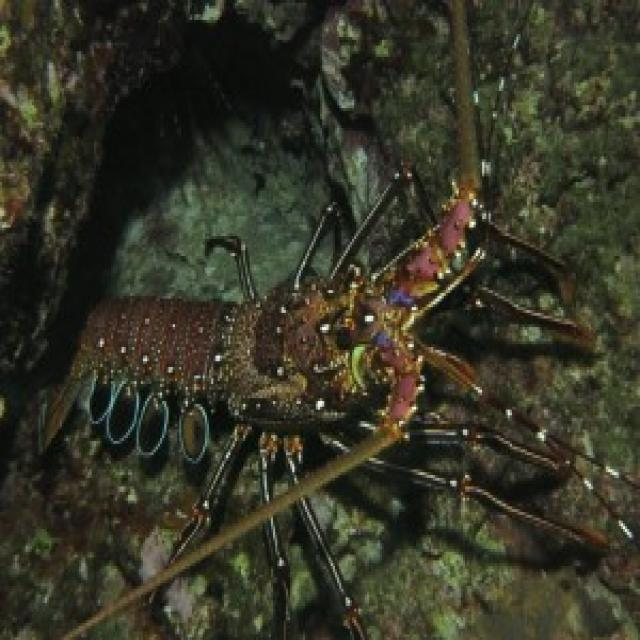lobsters: (6, 183, 612, 588)
